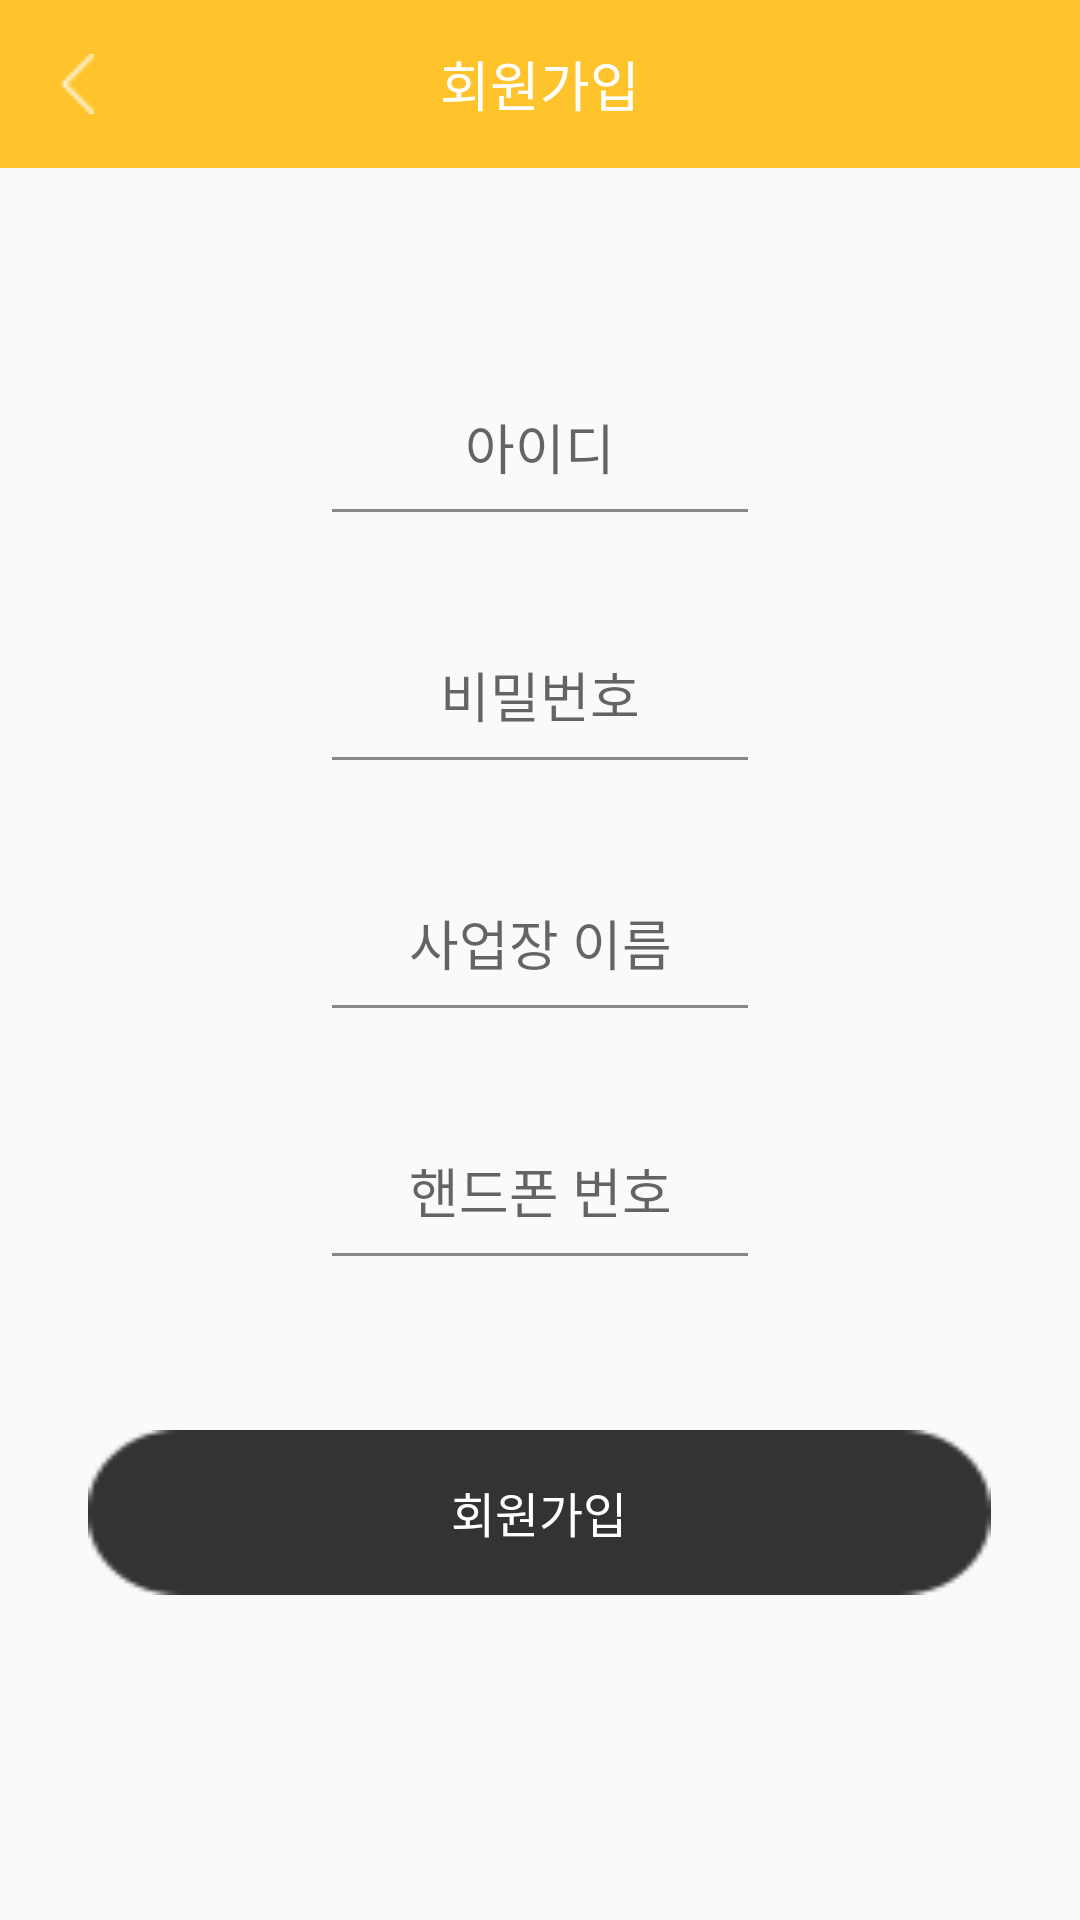

Where icons sit on this 1080x1920 app screen, as (x1, y1, x2, y2):
back: (62, 54, 95, 114)
